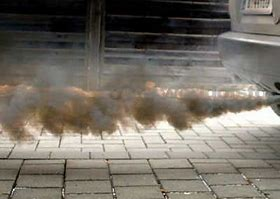smoke: (1, 64, 264, 140)
